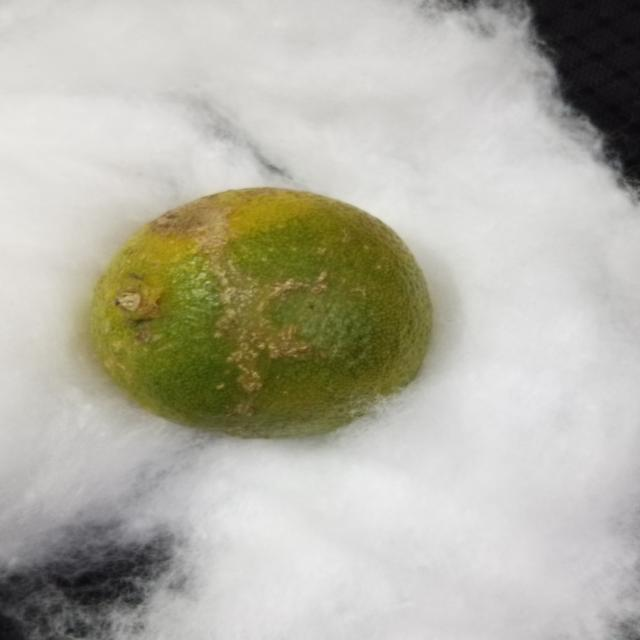thrips: (83, 184, 440, 442)
